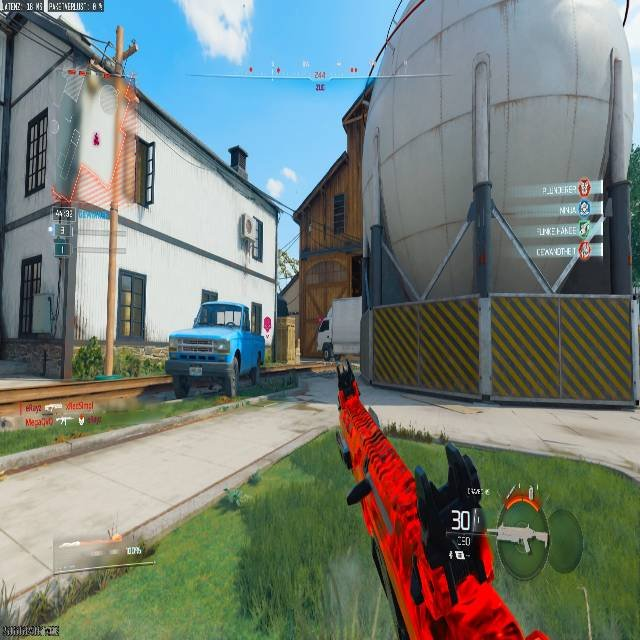player: (336, 363, 357, 407), (318, 324, 336, 361), (321, 338, 333, 363)
